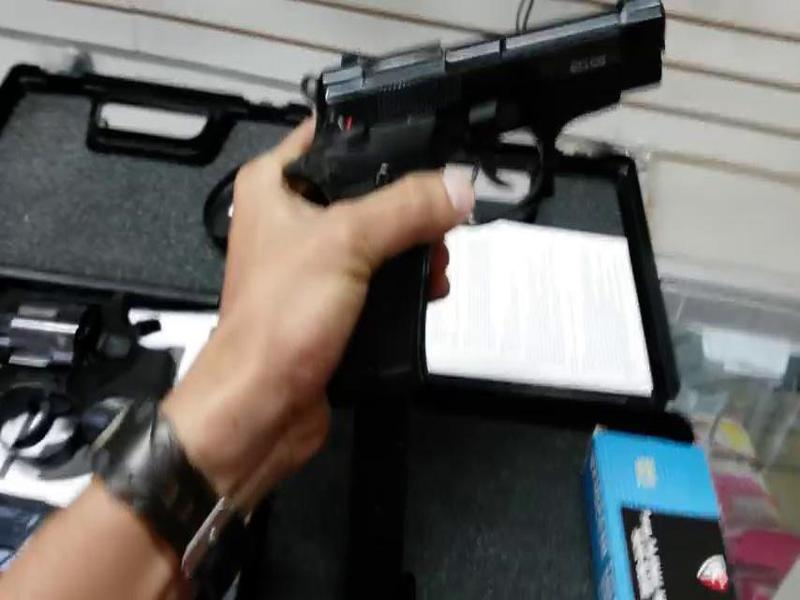Pistola: (278, 1, 704, 416)
